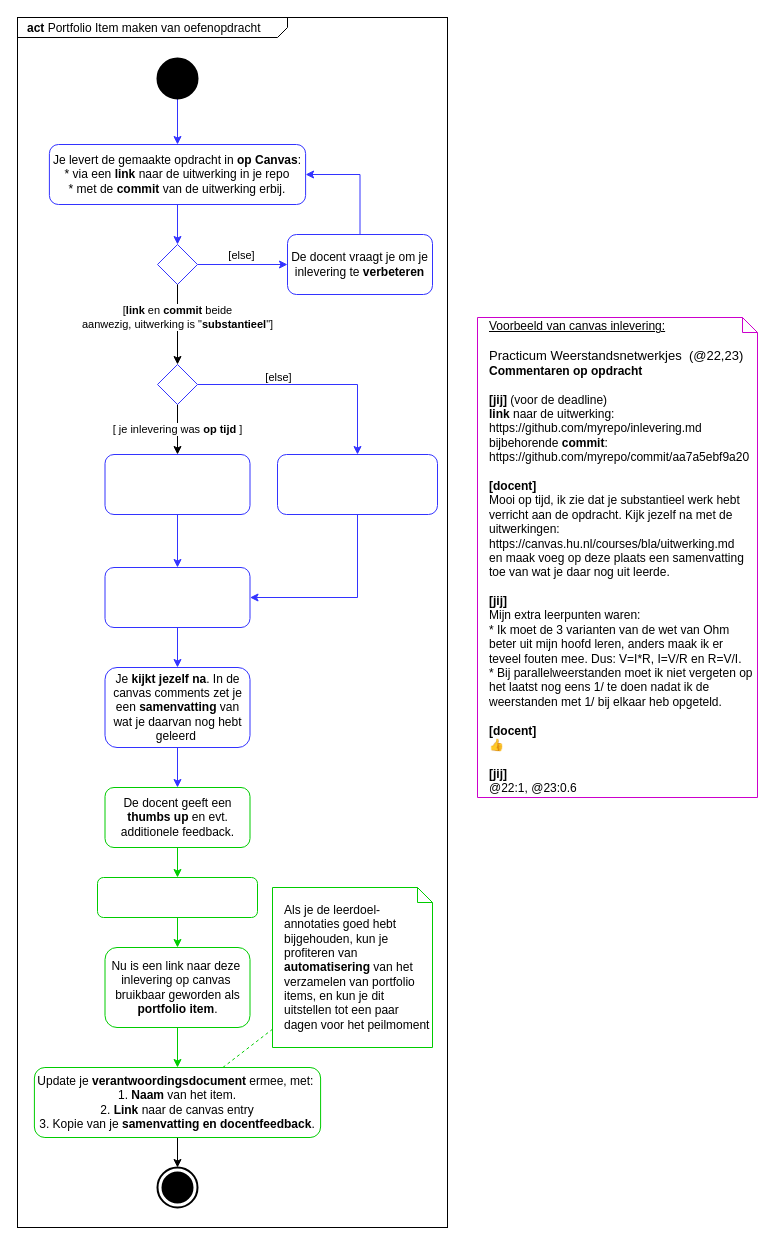
This 775x1245 diagram has some shape labels left out. The shapes that lost their labels are listed below. From the top down, each one's centre as x and y in pixels, then its label:
At (x=177, y=484): "Dat is gunstig voor leeruitkomst 7 : Organiserend vermogen".
At (x=357, y=484): "Je hebt iets goed te maken voor leeruitkomst 7: Organiserend vermogen".
At (x=177, y=597): "De docent geeft je de uitwerkingen".
At (x=177, y=897): "Voeg een regeltje toe met leerdoel-annotaties (@22:1)".
